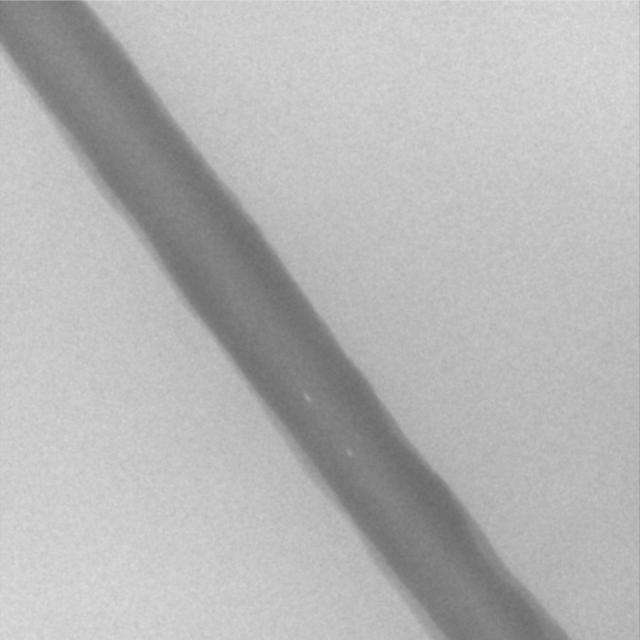air hole: (303, 392, 312, 404), (344, 447, 352, 457)
